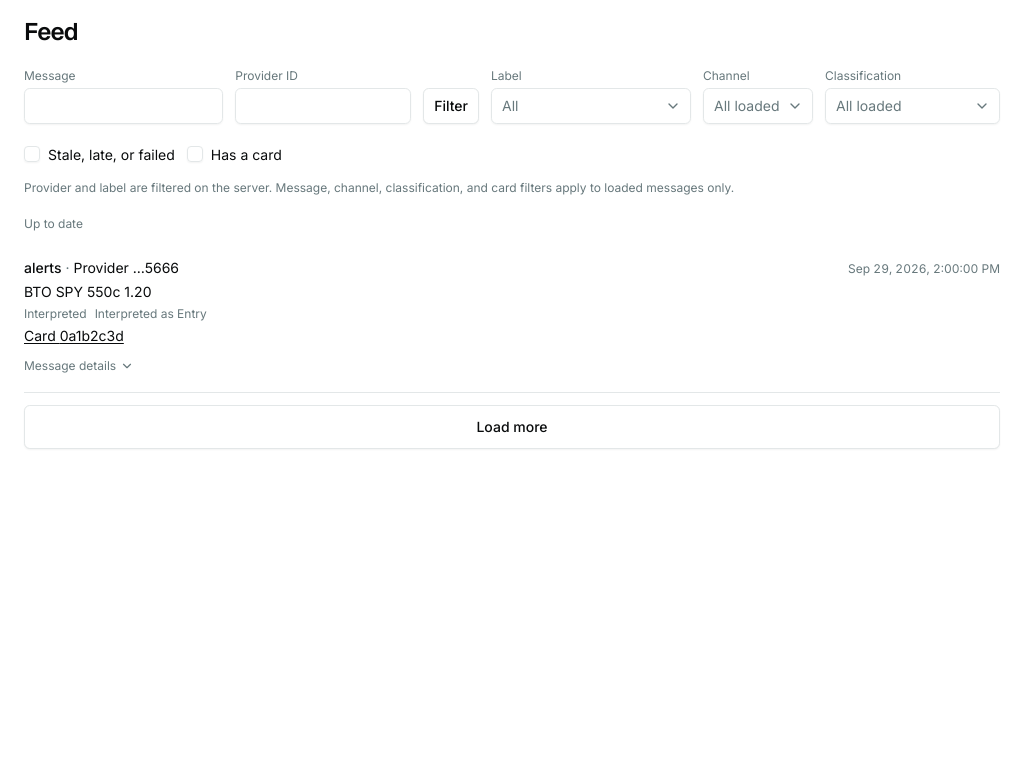
Test: feed screen › Load more follows the cursor
The image size is (1024, 768).
Click the button "Load more": [512, 427] box [24,405,1000,449]
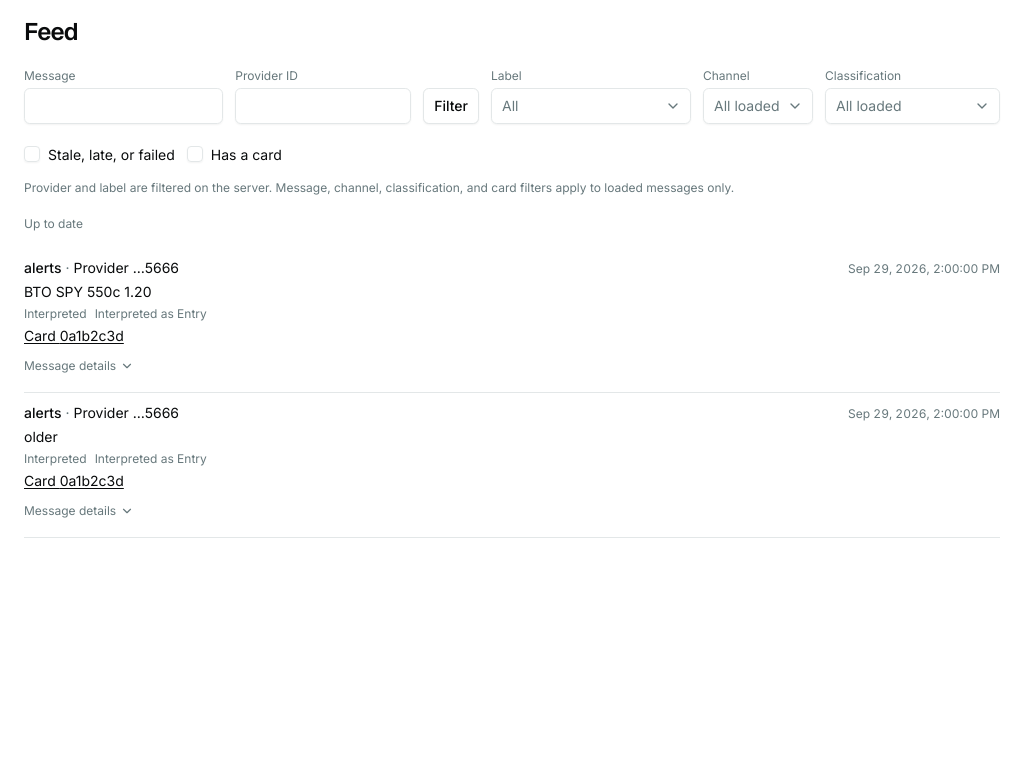
Now the text "older" is shown, box [24,428,58,445]
Now the button "Load more" is gone
